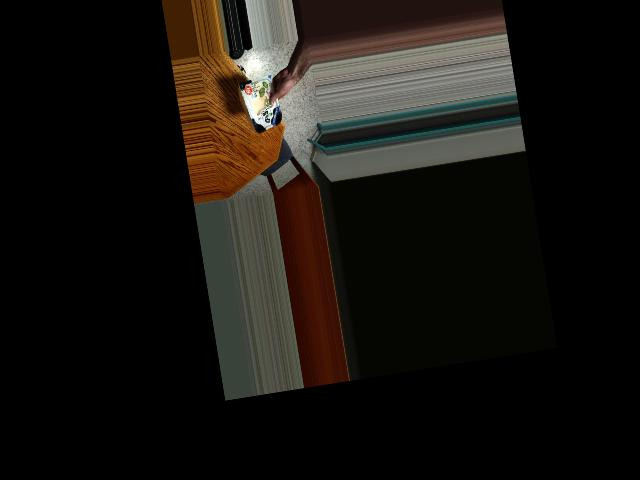cheese: (243, 70, 286, 135)
